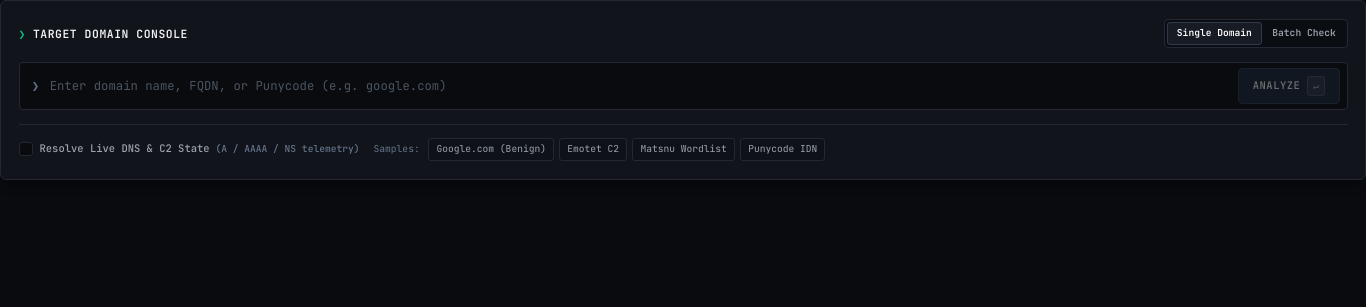
Scenario: DomainInput › toggles to batch mode
The width and height of the screenshot is (1366, 307).
Click the button "Batch Check".
click(1304, 33)  # box [1264, 22, 1344, 44]
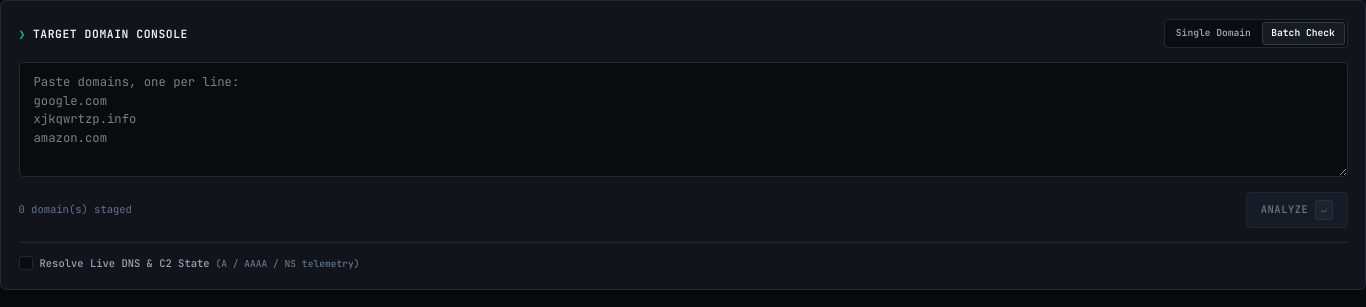
Expected: the text box with placeholder "Paste domains" is shown, [18, 62, 1348, 177]
